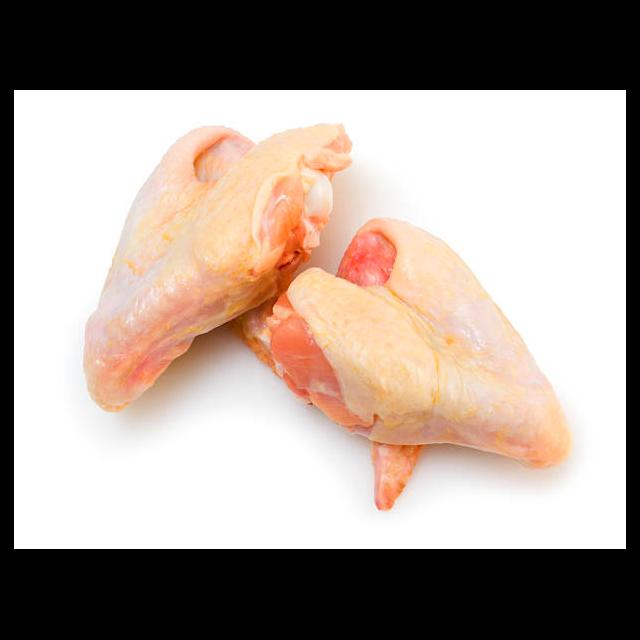chicken: (224, 218, 573, 514), (84, 122, 354, 416)
